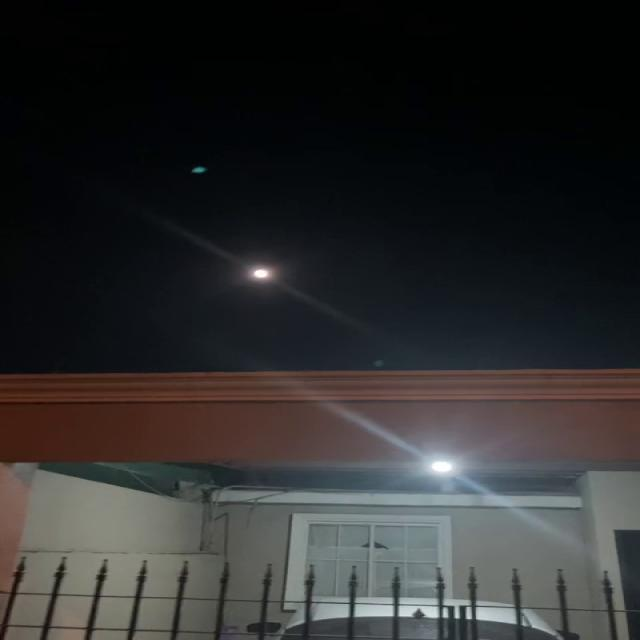moon: (247, 256, 284, 288)
